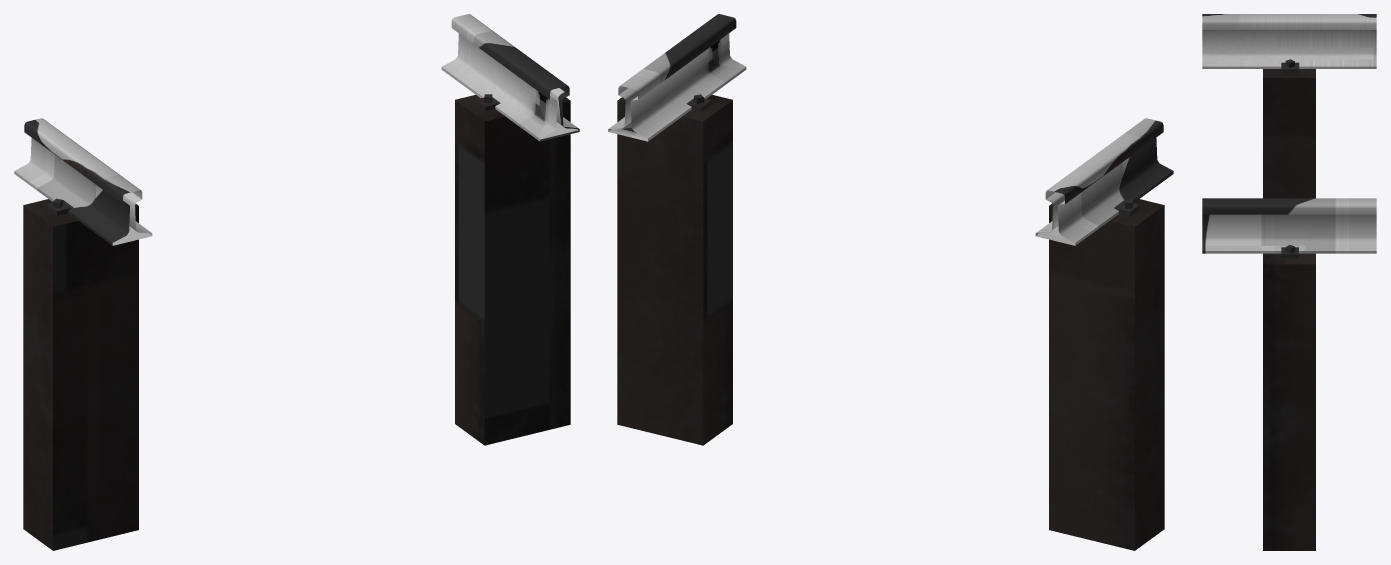
File: tram_track1.obj
3 views of the same model, side by side, from view 1: azimuth 30°, elevation 25°; view 2: azimuth 150°, elevation 25°; view 3: azimuth 270°, elevation 25° (orthographic). The views are drawn at different scales.
Visible parts, largest first — view 1: rail_siding; view 2: rail_siding; view 3: rail_siding.
Part boxes in pixels (x1=…): rail_siding: x1=14, y1=14, x2=579, y2=550; rail_siding: x1=608, y1=14, x2=1173, y2=550; rail_siding: x1=1202, y1=14, x2=1376, y2=550.
Bounding box in the file's own units: 1.82 × 1.25 × 0.6.
1 material, 1 textured.
